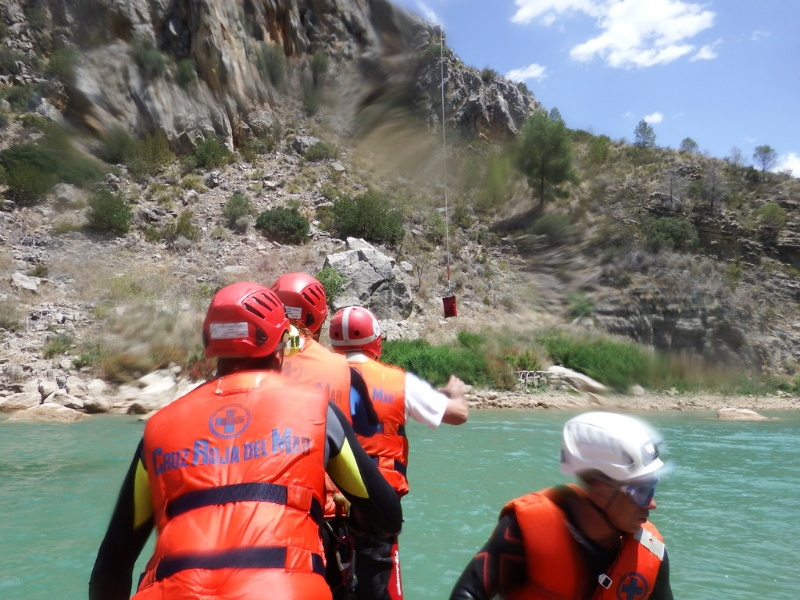helmet: (560, 412, 672, 484), (202, 279, 292, 359), (276, 275, 329, 330), (335, 311, 385, 358)
jacket: (148, 374, 324, 600), (513, 494, 667, 600), (331, 357, 412, 483)
